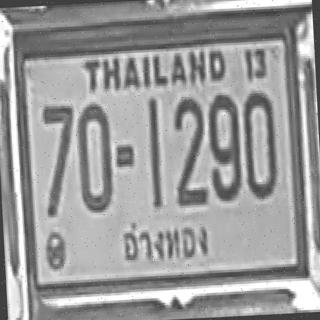N00: (76, 101, 114, 211), (241, 90, 277, 197)
N01: (146, 98, 162, 206)
N02: (171, 94, 206, 204)
N07: (41, 103, 77, 215)
N09: (206, 92, 241, 199)
